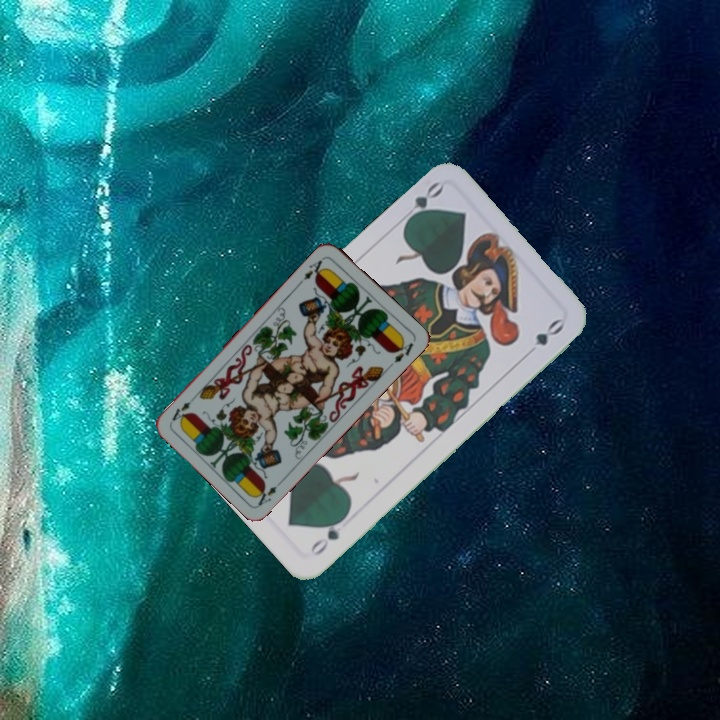EA: (252, 475, 286, 508), (295, 255, 328, 287)
GO: (400, 177, 446, 228), (306, 511, 350, 559)
